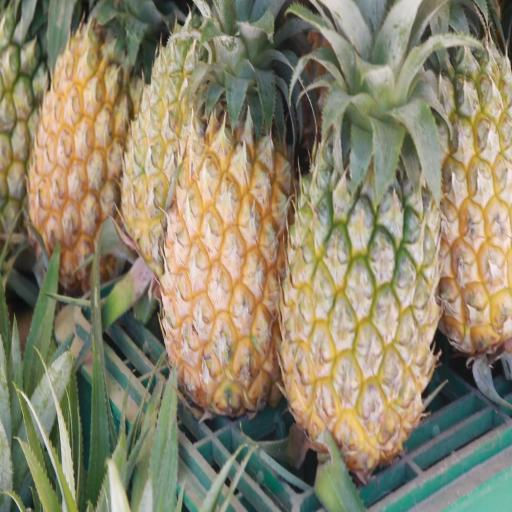------------------------------: (280, 27, 441, 487)
Pineapple - v8 v1: (157, 26, 297, 426), (407, 24, 512, 361), (112, 0, 238, 278), (24, 0, 140, 301)
